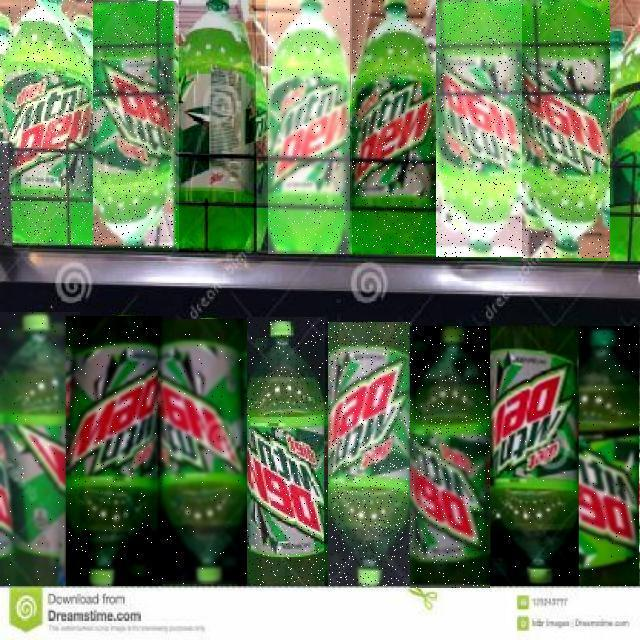Drinks: (66, 316, 162, 586), (488, 326, 580, 586), (158, 320, 247, 586), (0, 0, 94, 245), (522, 0, 610, 258), (328, 322, 412, 586), (436, 0, 522, 257), (0, 312, 80, 586), (248, 317, 328, 586), (352, 0, 436, 254), (410, 326, 490, 588), (94, 2, 178, 250), (268, 0, 350, 254), (179, 0, 256, 252), (579, 326, 639, 586)
